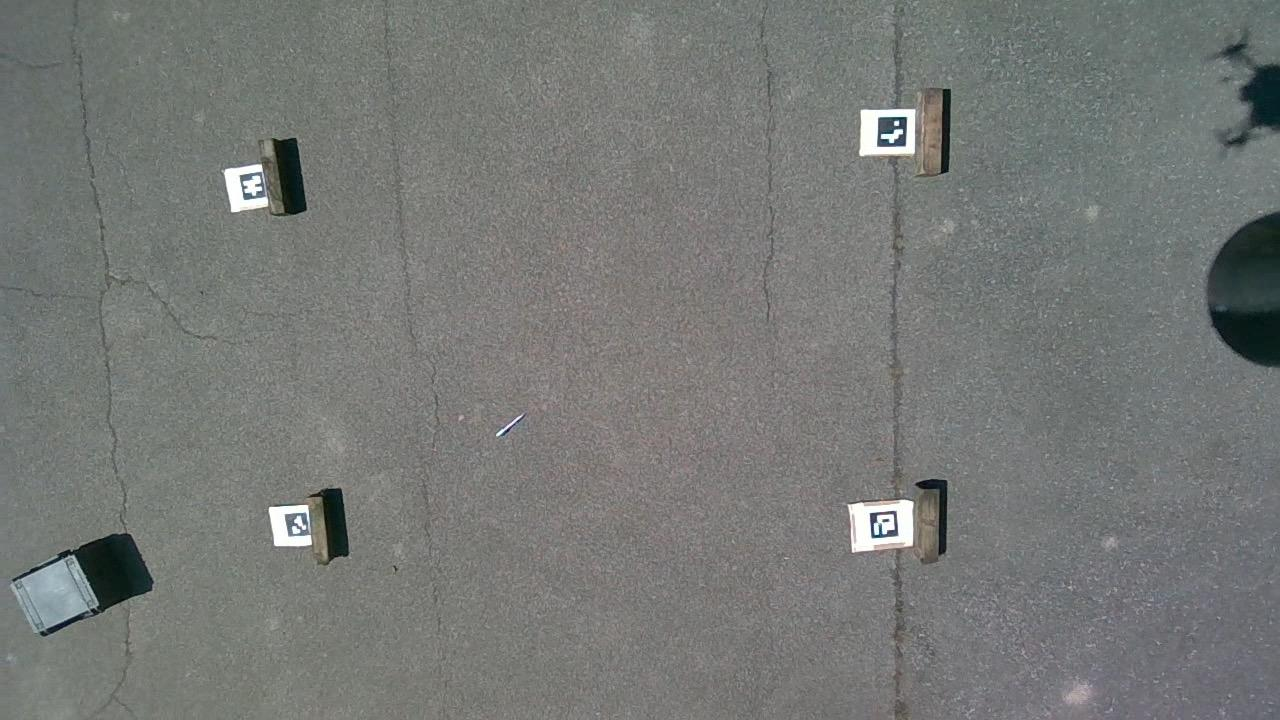probes: (495, 411, 527, 439)
rako: (11, 551, 101, 636)
